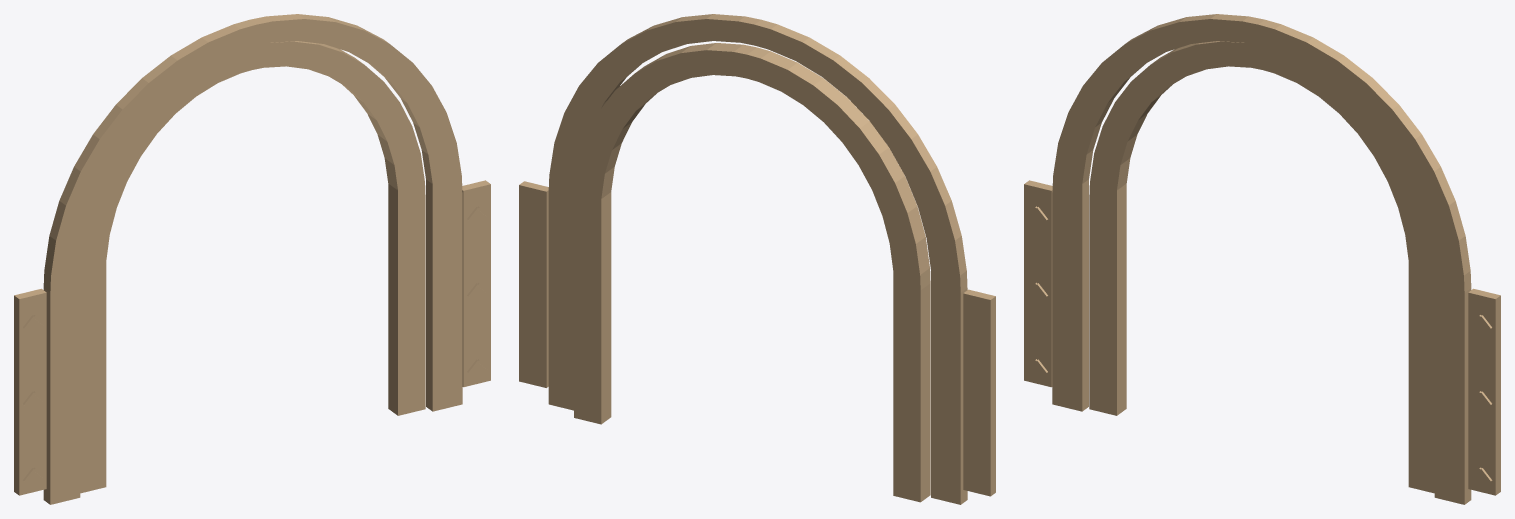
The model's file is marine-archivolt-relief.lod1.glb.
The picture shows the model from 3 angles, left to right: view 1: azimuth 30°, elevation 25°; view 2: azimuth 150°, elevation 25°; view 3: azimuth 330°, elevation 25°; orthographic projection.
Visible parts, largest first — view 1: marine-archivolt-relief; view 2: marine-archivolt-relief; view 3: marine-archivolt-relief.
Part boxes in pixels (<box>): marine-archivolt-relief: <box>14,14,490,504</box>; marine-archivolt-relief: <box>519,14,995,504</box>; marine-archivolt-relief: <box>1024,14,1500,504</box>.
Size of the model in its own units: 8.24 by 7.18 by 0.44.
